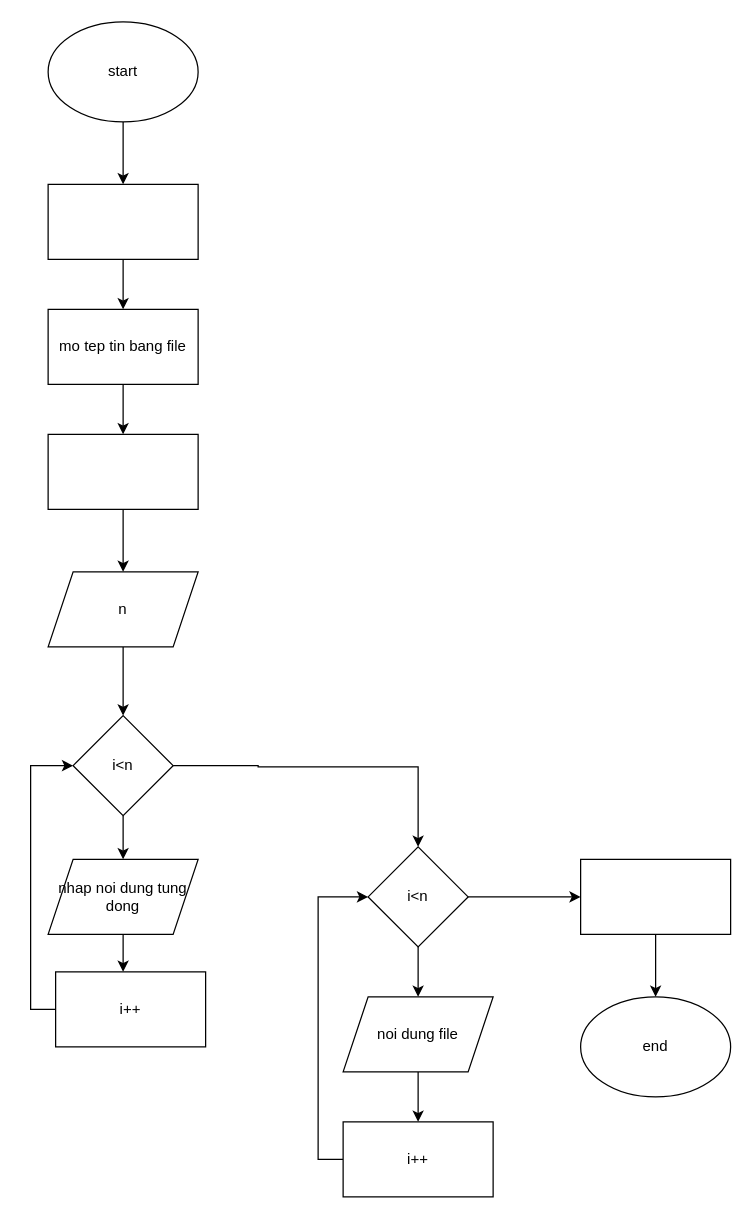
Some shapes in this 753 by 1219 pixel diagram are drawn without their labels. Each missing label, with the centre of its shape:
"fclose(filePointer)" belongs at point 655,896.
"FILE *filePointer; int n; char chain[200];" belongs at point 122,221.
"kiem tra tep tin co mo khong" belongs at point 122,471.
